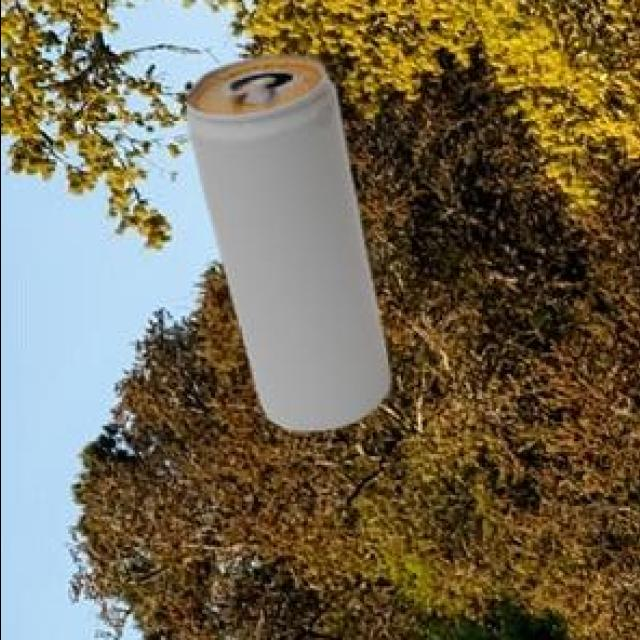logam: (183, 59, 386, 434)
